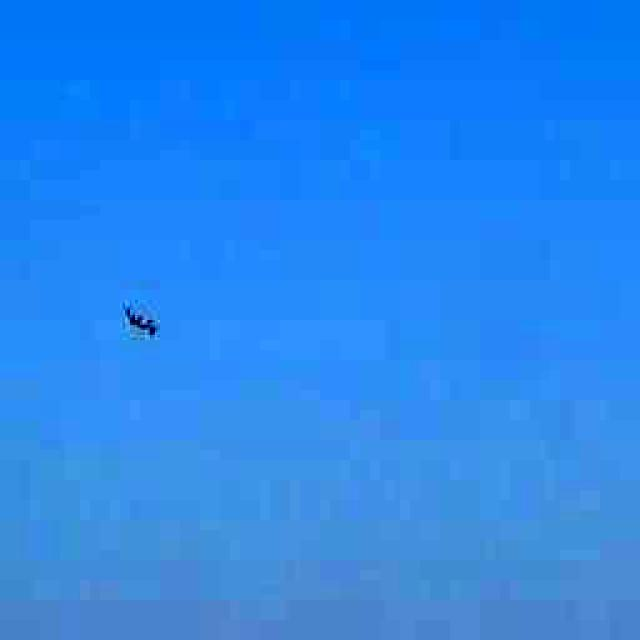bird: (110, 291, 178, 361)
